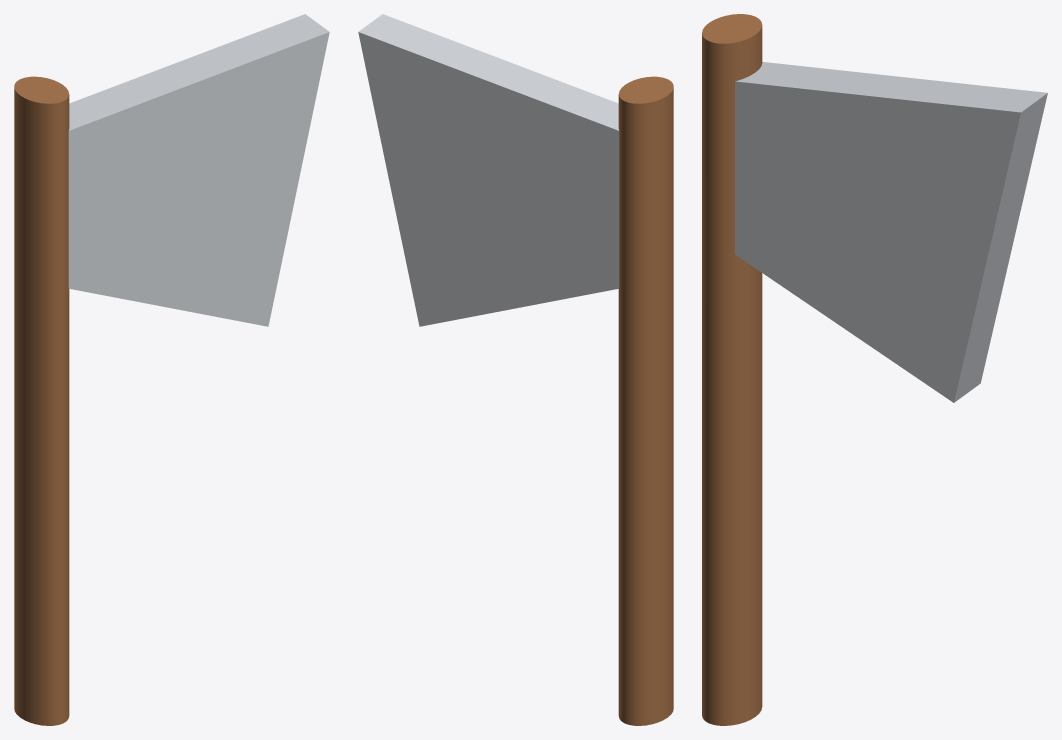
Rendered from wp-hache-de-fantasy.glb.
The picture shows the model from 3 angles, left to right: view 1: azimuth 30°, elevation 25°; view 2: azimuth 150°, elevation 25°; view 3: azimuth 330°, elevation 25°; orthographic projection. The views are drawn at different scales.
Parts seen in each view (by area): view 1: wp-hache-de-fantasy; view 2: wp-hache-de-fantasy; view 3: wp-hache-de-fantasy.
Part boxes in pixels (bbox=[...]): wp-hache-de-fantasy: bbox=[14, 14, 329, 725]; wp-hache-de-fantasy: bbox=[358, 14, 673, 725]; wp-hache-de-fantasy: bbox=[702, 14, 1047, 725].
Bounding box in the file's own units: 0.4 × 0.8 × 0.08.
